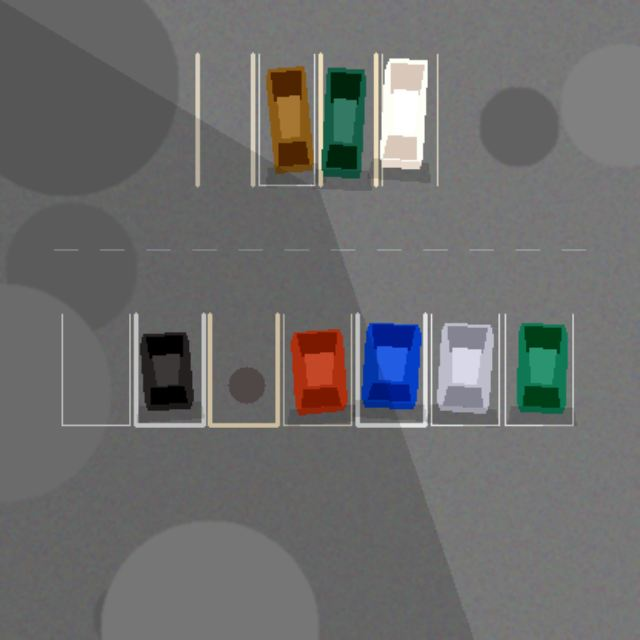space-empty: (209, 314, 277, 425), (62, 314, 129, 425), (197, 54, 252, 185)
space-occupied: (135, 314, 203, 425), (283, 314, 351, 425), (357, 314, 425, 425), (431, 314, 498, 425), (505, 314, 572, 425), (258, 54, 314, 185), (320, 54, 375, 185), (382, 54, 437, 185)
